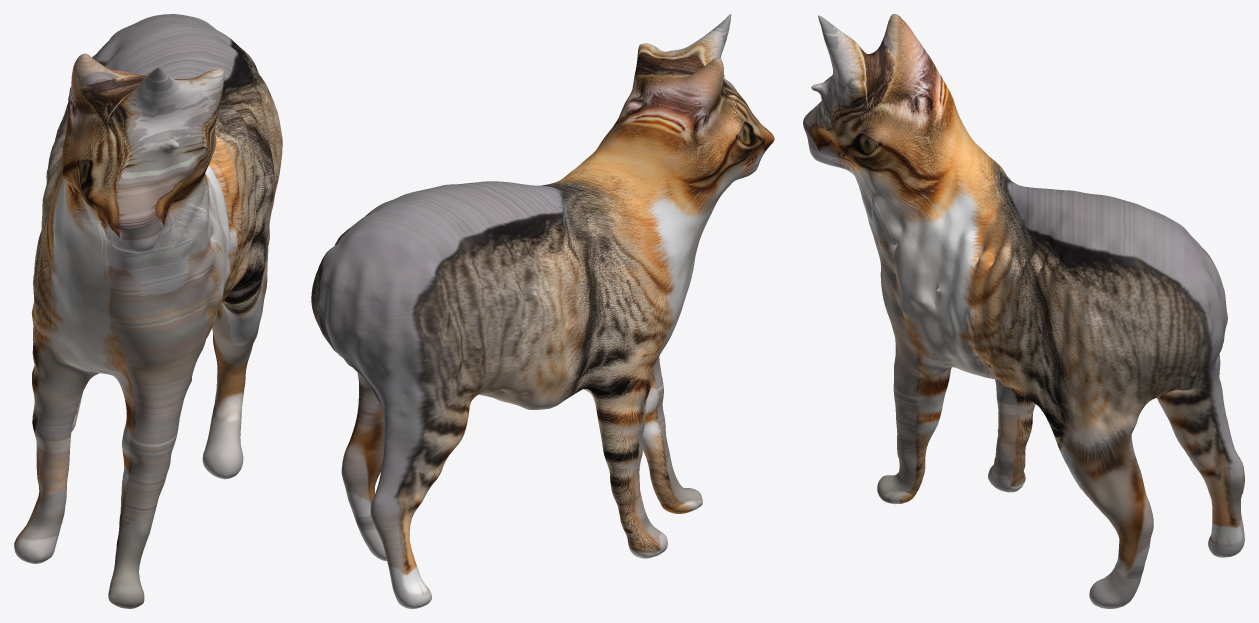
File: cat.glb
3 views of the same model, side by side, from view 1: azimuth 30°, elevation 25°; view 2: azimuth 150°, elevation 25°; view 3: azimuth 270°, elevation 25° (orthographic). The views are drawn at different scales.
Visible parts, largest first — view 1: Hero; view 2: Hero; view 3: Hero.
Boxes of the visible parts, x1,y1,x2,y2 form: Hero: (14,14,282,608); Hero: (311,14,774,608); Hero: (803,14,1244,608).
Bounding box in the file's own units: 0.3722 × 0.6001 × 0.4857.
Materials: 1 (1 with a texture image).
